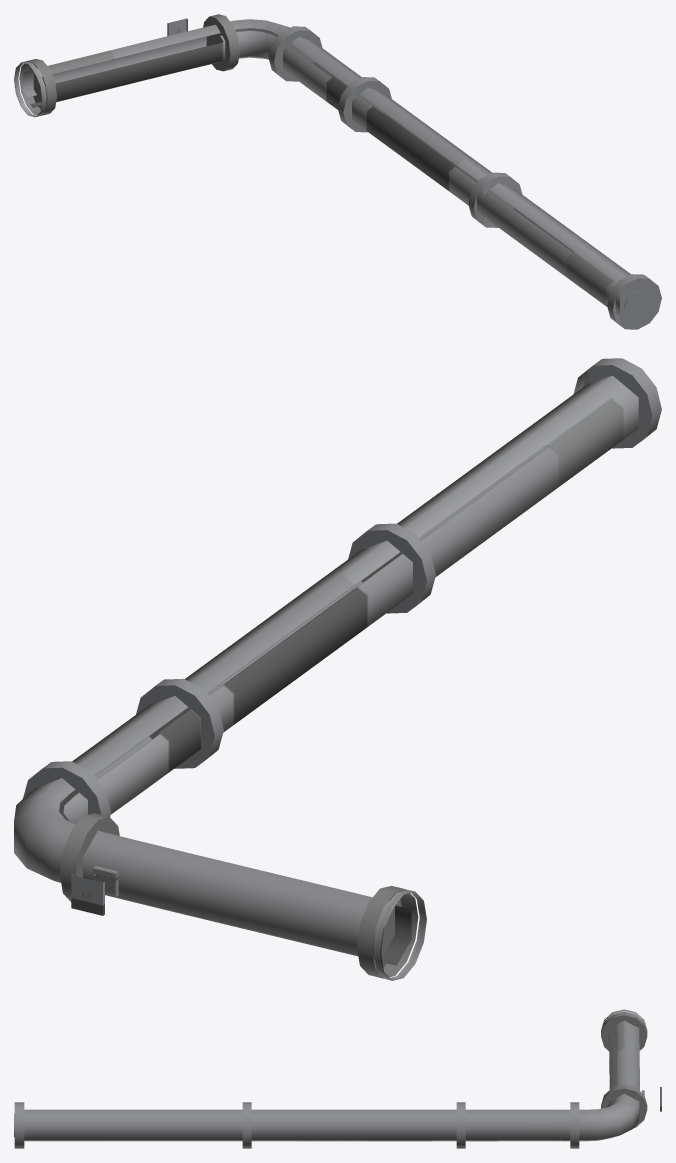
3 renders of one model, top to bottom at view 1: azimuth 30°, elevation 25°; view 2: azimuth 150°, elevation 25°; view 3: azimuth 270°, elevation 25°, orthographic. The views are drawn at different scales.
Bounding box in the file's own units: 0.939 × 0.176 × 2.45.
